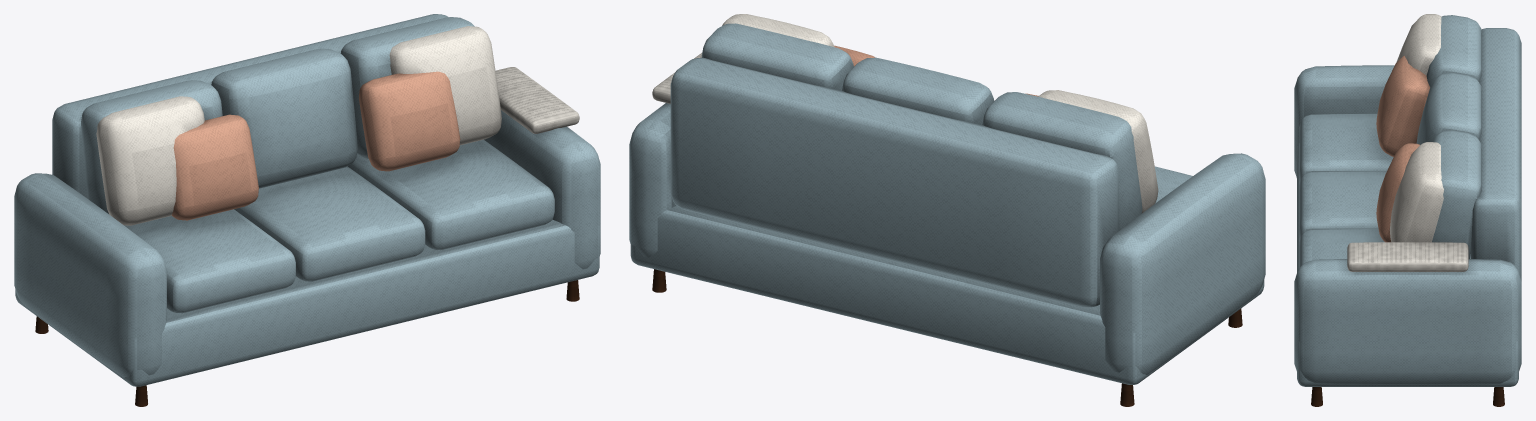
Rendered from sofa.glb.
3 views of the same model, side by side, from view 1: azimuth 30°, elevation 25°; view 2: azimuth 150°, elevation 25°; view 3: azimuth 270°, elevation 25° (orthographic). The views are drawn at different scales.
Parts seen in each view (by area): view 1: body; view 2: body; view 3: body.
Part boxes in pixels (left/top/right/bottom): body: left=14, top=14, right=600, bottom=406; body: left=629, top=14, right=1265, bottom=406; body: left=1294, top=14, right=1521, bottom=406.
Size of what is drawn, in the model's own units: 2 by 0.934 by 0.9.
Materials: 5 (5 with a texture image).
